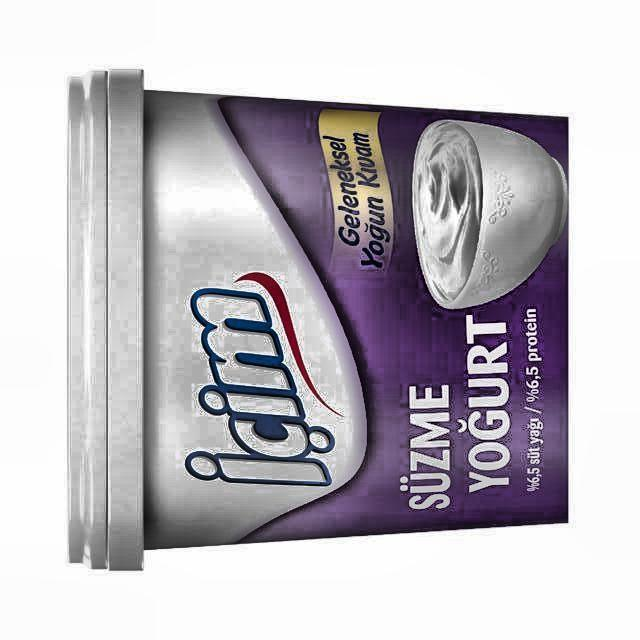plastic: (69, 70, 569, 569)
